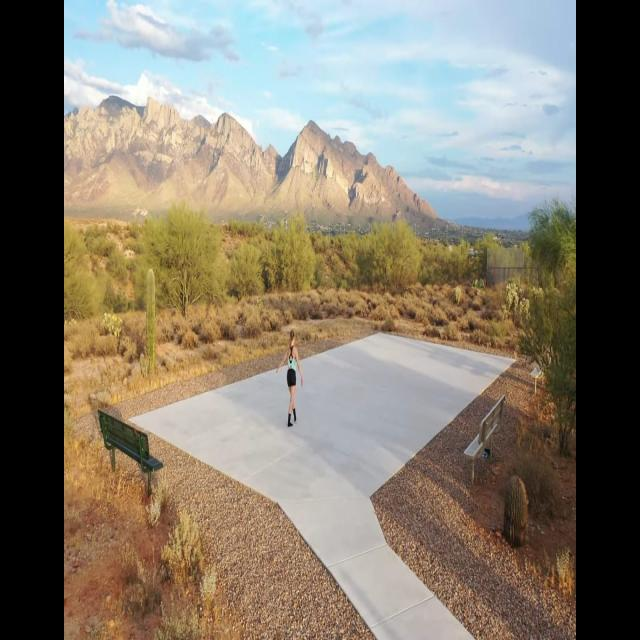humans: (276, 324, 308, 440)
